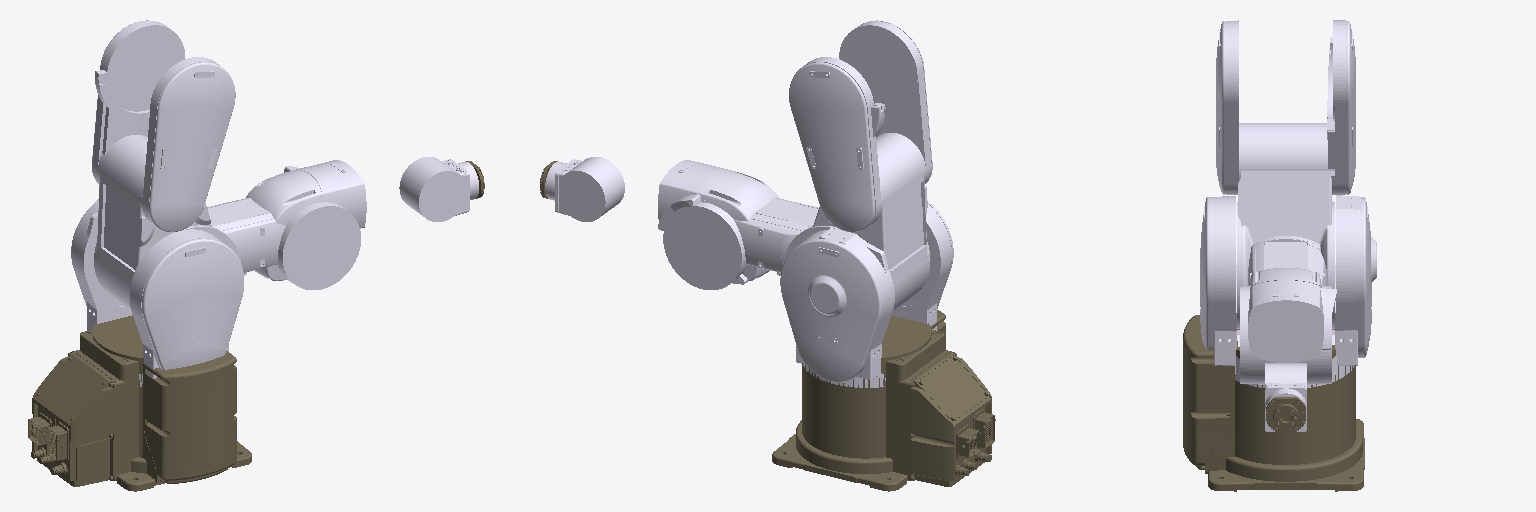
The robot description file, URDF, robot "kuka_kr3r540":
<?xml version="1.0" ?>
<!-- =================================================================================== -->
<!-- |    This document was autogenerated by xacro from kr3r540.xacro                  | -->
<!-- |    EDITING THIS FILE BY HAND IS NOT RECOMMENDED                                 | -->
<!-- =================================================================================== -->
<robot name="kuka_kr3r540">
  <!-- colours based on RAL values given in "FAQ - Colours of robot and robot
       controller", version "KUKA.Tifs | 2010-01-21 |YM| DefaultColorsRobotAndController.doc",
       downloaded 2015-07-18 from
       http://www.kuka.be/main/cservice/faqs/hardware/DefaultColorsRobotAndController.pdf

       all RAL colours converted using http://www.visual-graphics.de/en/customer-care/ral-colours
  -->
  <link name="base_link">
    <visual>
      <origin rpy="0 0 0" xyz="0 0 0"/>
      <geometry>
        <mesh filename="package://kuka_kr3_support/meshes/kr3r540/visual/base_link.stl"/>
      </geometry>
      <material name="">
        <color rgba="0.5058823529411764 0.47058823529411764 0.38823529411764707 1.0"/>
      </material>
    </visual>
    <collision>
      <origin rpy="0 0 0" xyz="0 0 0"/>
      <geometry>
        <mesh filename="package://kuka_kr3_support/meshes/kr3r540/collision/base_link.stl"/>
      </geometry>
    </collision>
  </link>
  <link name="link_1">
    <visual>
      <origin rpy="0 0 0" xyz="0 0 0"/>
      <geometry>
        <mesh filename="package://kuka_kr3_support/meshes/kr3r540/visual/link_1.stl"/>
      </geometry>
      <material name="">
        <color rgba="0.9450980392156862 0.9254901960784314 1.0 1.0"/>
      </material>
    </visual>
    <collision>
      <origin rpy="0 0 0" xyz="0 0 0"/>
      <geometry>
        <mesh filename="package://kuka_kr3_support/meshes/kr3r540/collision/link_1.stl"/>
      </geometry>
    </collision>
  </link>
  <link name="link_2">
    <visual>
      <origin rpy="0 0 0" xyz="0 0 0"/>
      <geometry>
        <mesh filename="package://kuka_kr3_support/meshes/kr3r540/visual/link_2.stl"/>
      </geometry>
      <material name="">
        <color rgba="0.9450980392156862 0.9254901960784314 1.0 1.0"/>
      </material>
    </visual>
    <collision>
      <origin rpy="0 0 0" xyz="0 0 0"/>
      <geometry>
        <mesh filename="package://kuka_kr3_support/meshes/kr3r540/collision/link_2.stl"/>
      </geometry>
    </collision>
  </link>
  <link name="link_3">
    <visual>
      <origin rpy="0 0 0" xyz="0 0 0"/>
      <geometry>
        <mesh filename="package://kuka_kr3_support/meshes/kr3r540/visual/link_3.stl"/>
      </geometry>
      <material name="">
        <color rgba="0.9450980392156862 0.9254901960784314 1.0 1.0"/>
      </material>
    </visual>
    <collision>
      <origin rpy="0 0 0" xyz="0 0 0"/>
      <geometry>
        <mesh filename="package://kuka_kr3_support/meshes/kr3r540/collision/link_3.stl"/>
      </geometry>
    </collision>
  </link>
  <link name="link_4">
    <visual>
      <origin rpy="0 0 0" xyz="0 0 0"/>
      <geometry>
        <mesh filename="package://kuka_kr3_support/meshes/kr3r540/visual/link_4.stl"/>
      </geometry>
      <material name="">
        <color rgba="0.9450980392156862 0.9254901960784314 1.0 1.0"/>
      </material>
    </visual>
    <collision>
      <origin rpy="0 0 0" xyz="0 0 0"/>
      <geometry>
        <mesh filename="package://kuka_kr3_support/meshes/kr3r540/collision/link_4.stl"/>
      </geometry>
    </collision>
  </link>
  <link name="link_5">
    <visual>
      <origin rpy="0 0 0" xyz="0 0 0"/>
      <geometry>
        <mesh filename="package://kuka_kr3_support/meshes/kr3r540/visual/link_5.stl"/>
      </geometry>
      <material name="">
        <color rgba="0.9450980392156862 0.9254901960784314 1.0 1.0"/>
      </material>
    </visual>
    <collision>
      <origin rpy="0 0 0" xyz="0 0 0"/>
      <geometry>
        <mesh filename="package://kuka_kr3_support/meshes/kr3r540/collision/link_5.stl"/>
      </geometry>
    </collision>
  </link>
  <link name="link_6">
    <visual>
      <origin rpy="0 0 0" xyz="0 0 0"/>
      <geometry>
        <mesh filename="package://kuka_kr3_support/meshes/kr3r540/visual/link_6.stl"/>
      </geometry>
      <material name="">
        <color rgba="0.5058823529411764 0.47058823529411764 0.38823529411764707 1.0"/>
      </material>
    </visual>
    <collision>
      <origin rpy="0 0 0" xyz="0 0 0"/>
      <geometry>
        <mesh filename="package://kuka_kr3_support/meshes/kr3r540/collision/link_6.stl"/>
      </geometry>
    </collision>
  </link>
  <!-- Following REP199, this frame shall be use to attach EEF or other equipment -->
  <link name="flange"/>
  <joint name="joint_a1" type="revolute">
    <origin rpy="0 0 0" xyz="0 0 0.345"/>
    <parent link="base_link"/>
    <child link="link_1"/>
    <axis xyz="0 0 -1"/>
    <limit effort="0" lower="-2.9670597283903604" upper="2.9670597283903604" velocity="9.250245035569947"/>
  </joint>
  <joint name="joint_a2" type="revolute">
    <origin rpy="0 0 0" xyz="0.020 0 0"/>
    <parent link="link_1"/>
    <child link="link_2"/>
    <axis xyz="0 1 0"/>
    <limit effort="0" lower="-2.9670597283903604" upper="0.8726646259971648" velocity="9.232791743050003"/>
  </joint>
  <joint name="joint_a3" type="revolute">
    <origin rpy="0 0 0" xyz="0.260 0 0"/>
    <parent link="link_2"/>
    <child link="link_3"/>
    <axis xyz="0 1 0"/>
    <limit effort="0" lower="-1.9198621771937625" upper="2.705260340591211" velocity="9.389871375729493"/>
  </joint>
  <joint name="joint_a4" type="revolute">
    <origin rpy="0 0 0" xyz="0 0 0.020"/>
    <parent link="link_3"/>
    <child link="link_4"/>
    <axis xyz="-1 0 0"/>
    <limit effort="0" lower="-3.0543261909900767" upper="3.0543261909900767" velocity="10.471975511965978"/>
  </joint>
  <joint name="joint_a5" type="revolute">
    <origin rpy="0 0 0" xyz="0.260 0 0"/>
    <parent link="link_4"/>
    <child link="link_5"/>
    <axis xyz="0 1 0"/>
    <limit effort="0" lower="-2.0943951023931953" upper="2.0943951023931953" velocity="10.471975511965978"/>
  </joint>
  <joint name="joint_a6" type="revolute">
    <origin rpy="0 0 0" xyz="0.075 0 0"/>
    <parent link="link_5"/>
    <child link="link_6"/>
    <axis xyz="-1 0 0"/>
    <limit effort="0" lower="-6.1086523819801535" upper="6.1086523819801535" velocity="13.962634015954636"/>
  </joint>
  <joint name="joint_a6-tool0" type="fixed">
    <parent link="link_6"/>
    <child link="flange"/>
    <origin rpy="0 0 0" xyz="0 0 0"/>
  </joint>
  <!-- ROS base_link to KUKA $ROBROOT coordinate system transform -->
  <link name="base"/>
  <joint name="base_link-base" type="fixed">
    <origin rpy="0 0 0" xyz="0 0 0"/>
    <parent link="base_link"/>
    <child link="base"/>
  </joint>
  <!-- This frame corresponds to the $TOOL coordinate system in KUKA KRC controllers -->
  <link name="tool0"/>
  <joint name="flange-tool0" type="fixed">
    <parent link="flange"/>
    <child link="tool0"/>
    <origin rpy="0 1.5707963267948966 0" xyz="0 0 0"/>
  </joint>
</robot>

--- What the picture shows (computed from the rendered views, not written in the file) ---
The picture shows the robot from 3 angles, left to right: view 1: azimuth 30°, elevation 25°; view 2: azimuth 150°, elevation 25°; view 3: azimuth 270°, elevation 25°; orthographic projection.
Model kuka_kr3r540 with 10 links and 9 joints (6 revolute, 3 fixed), rooted at base_link, posed all joints at 0.
Links seen in each view (by area): view 1: link_2, base_link, link_1, link_3, link_5, link_4; view 2: link_2, base_link, link_1, link_3, link_5, link_4; view 3: link_2, base_link, link_1, link_3, link_4, link_5, link_6.
Boxes of the visible links, x1=… form: link_2: x1=92, y1=20, x2=240, y2=310; base_link: x1=28, y1=315, x2=251, y2=491; link_1: x1=71, y1=199, x2=243, y2=386; link_3: x1=246, y1=160, x2=366, y2=289; link_5: x1=399, y1=157, x2=478, y2=221; link_4: x1=207, y1=198, x2=285, y2=275; link_2: x1=783, y1=20, x2=932, y2=310; base_link: x1=772, y1=310, x2=995, y2=491; link_1: x1=780, y1=200, x2=953, y2=387; link_3: x1=658, y1=160, x2=779, y2=289; link_5: x1=545, y1=157, x2=624, y2=221; link_4: x1=734, y1=198, x2=818, y2=275; link_2: x1=1216, y1=20, x2=1355, y2=328; base_link: x1=1183, y1=315, x2=1364, y2=491; link_1: x1=1200, y1=195, x2=1376, y2=387; link_3: x1=1240, y1=268, x2=1336, y2=384; link_4: x1=1248, y1=236, x2=1327, y2=285; link_5: x1=1265, y1=363, x2=1306, y2=431; link_6: x1=1266, y1=397, x2=1305, y2=431.
Bounding box of the posed robot: 0.8558 × 0.305 × 0.762 m (x, y, z).
7 mesh visuals loaded from 7 distinct referenced files (7 binary STL).
